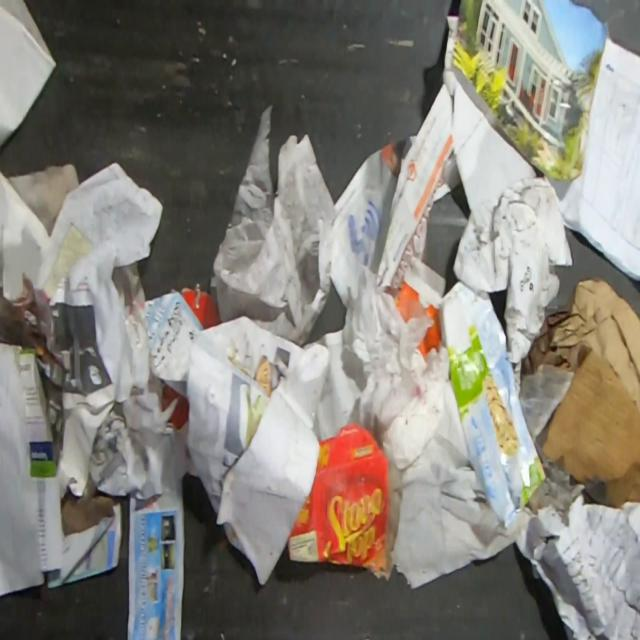cardboard: (540, 347, 640, 510), (288, 421, 389, 572), (170, 281, 218, 329), (158, 384, 188, 428)
rigid_plastic: (124, 317, 148, 351)
